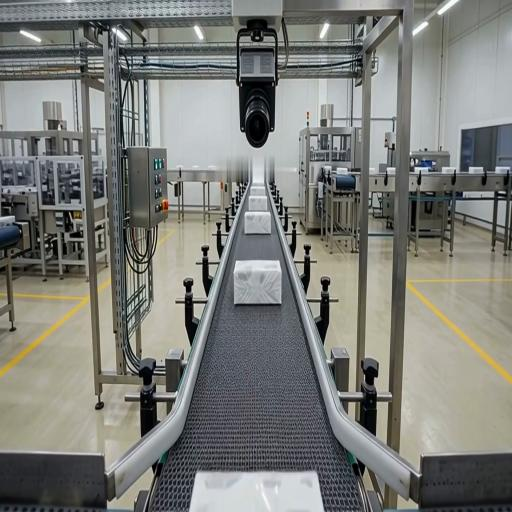good: (233, 260, 282, 304), (244, 211, 272, 235), (248, 195, 268, 212), (250, 182, 266, 192)
